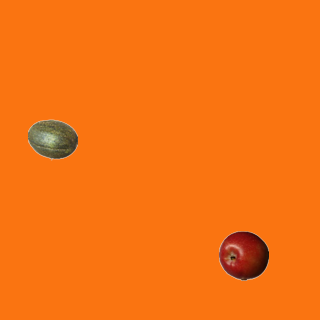Apple Braeburn: (218, 230, 268, 280)
Melon Piel de Sapo: (27, 114, 77, 164)
